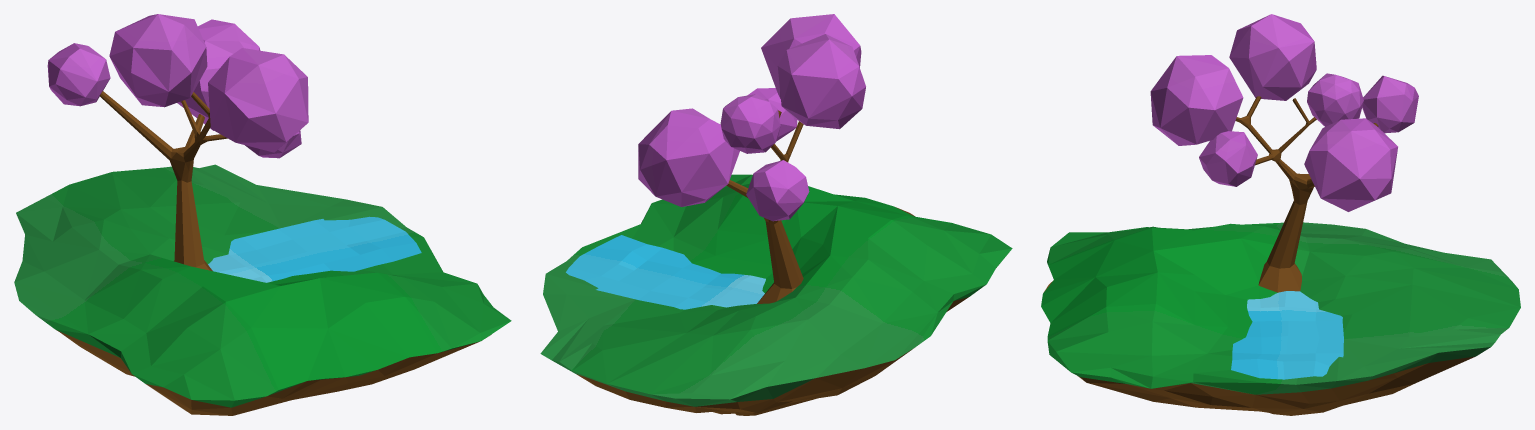
File: island1.glb
3 views of the same model, side by side, from view 1: azimuth 30°, elevation 25°; view 2: azimuth 150°, elevation 25°; view 3: azimuth 270°, elevation 25° (orthographic). The views are drawn at different scales.
Parts seen in each view (by area): view 1: Island, Tree, water.001; view 2: Island, Tree, water.001; view 3: Island, Tree, water.001.
Boxes of the visible parts, box(x1,y1,x2,y2) form: Island: box(14, 164, 511, 415); Tree: box(47, 14, 308, 270); water.001: box(208, 216, 421, 282); Island: box(540, 174, 1012, 415); Tree: box(638, 14, 865, 303); water.001: box(566, 235, 765, 309); Island: box(1041, 222, 1520, 415); Tree: box(1150, 14, 1418, 292); water.001: box(1231, 291, 1343, 379).
Bounding box in the file's own units: 30 × 30.58 × 37.69.
2 materials, 2 textured.
